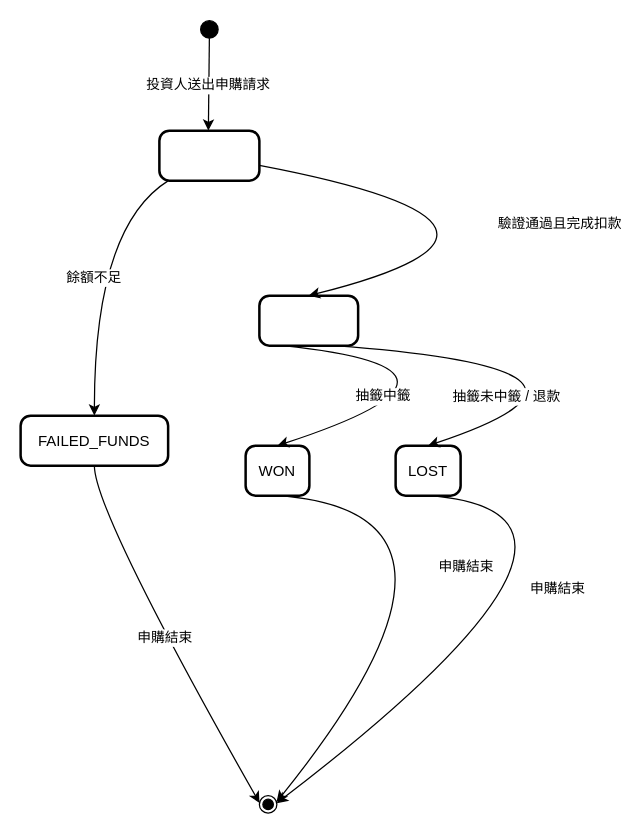
Some shapes in this 644 by 834 pixel diagram are drawn without their labels. The shapes that lost their labels are listed below. From the top down, each one's centre as x and y in pixels, then its label:
At point 209,155: "系統驗證".
At point 308,320: "PENDING".
